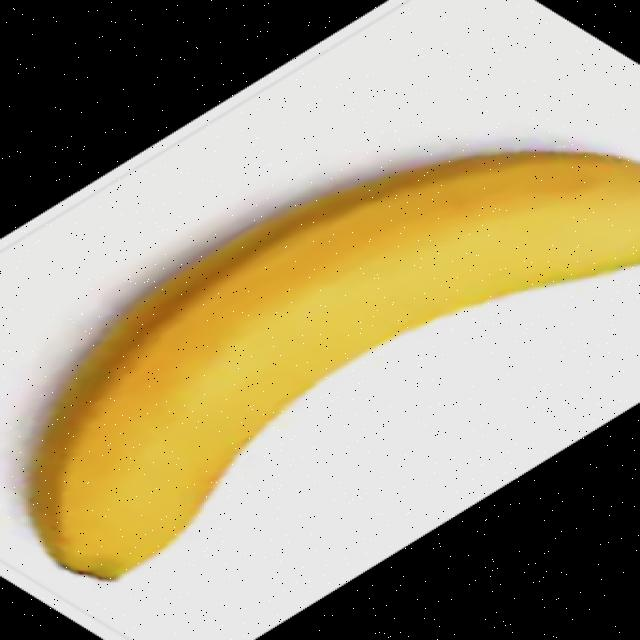god quality banana: (30, 152, 640, 580)
